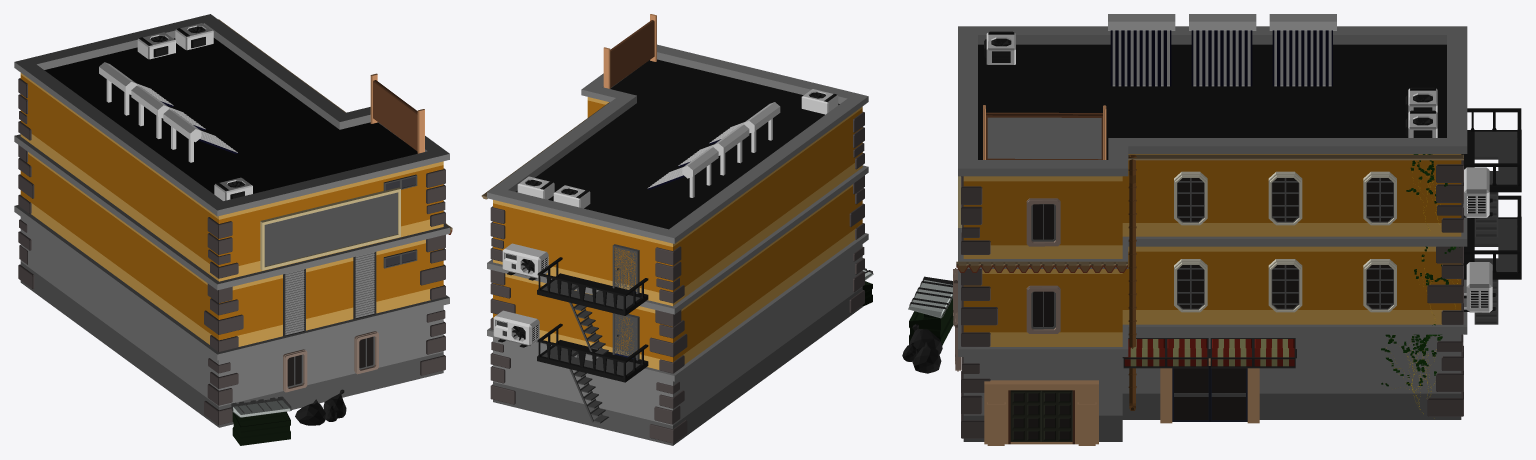
File: House 1.fbx
3 renders of one model, left to right at view 1: azimuth 30°, elevation 25°; view 2: azimuth 150°, elevation 25°; view 3: azimuth 270°, elevation 25°, orthographic. The views are drawn at different scales.
Visible parts, largest first — view 1: House 1; view 2: House 1; view 3: House 1.
Boxes of the visible parts, x1,y1,x2,y2 form: House 1: (14,14,452,445); House 1: (481,14,873,445); House 1: (902,14,1521,445).
Size of the model in its own units: 18.63 by 11.16 by 10.25.
